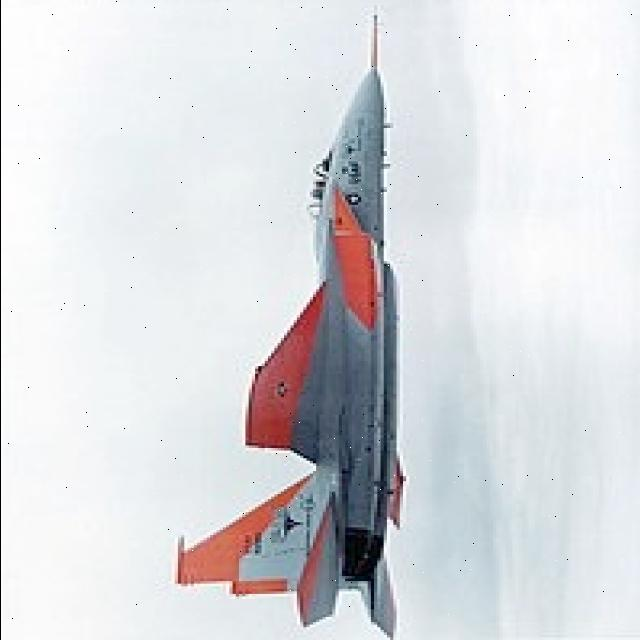F15: (134, 14, 438, 638)
